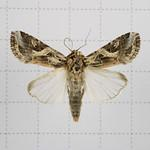Spodoptera litura: (10, 30, 141, 122)
